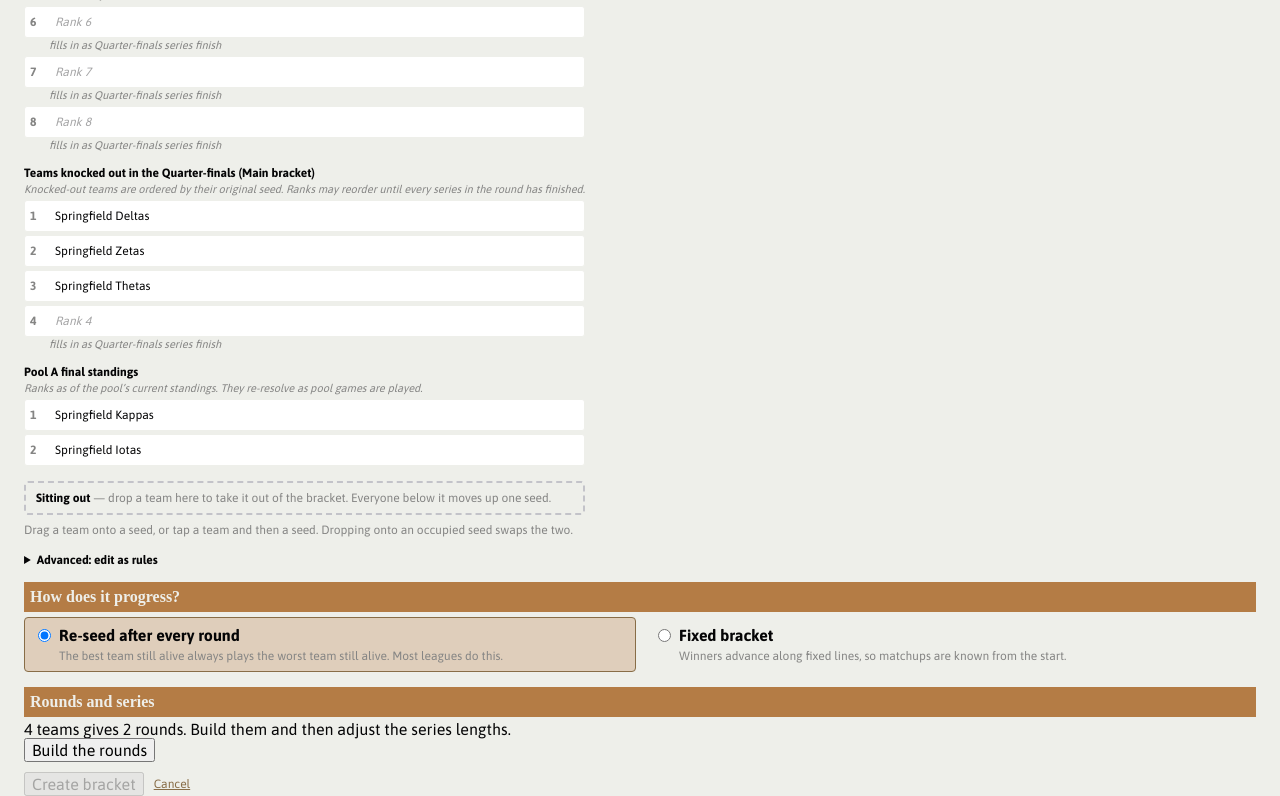
Scenario: TournamentBracketForm (seeding board) › blocks saving while the seeding has a problem, and says why
The width and height of the screenshot is (1280, 796).
(page scrolled)
Click the button "Build the rounds" at (90, 750), box 24,738 -> 155,762
(page scrolled)
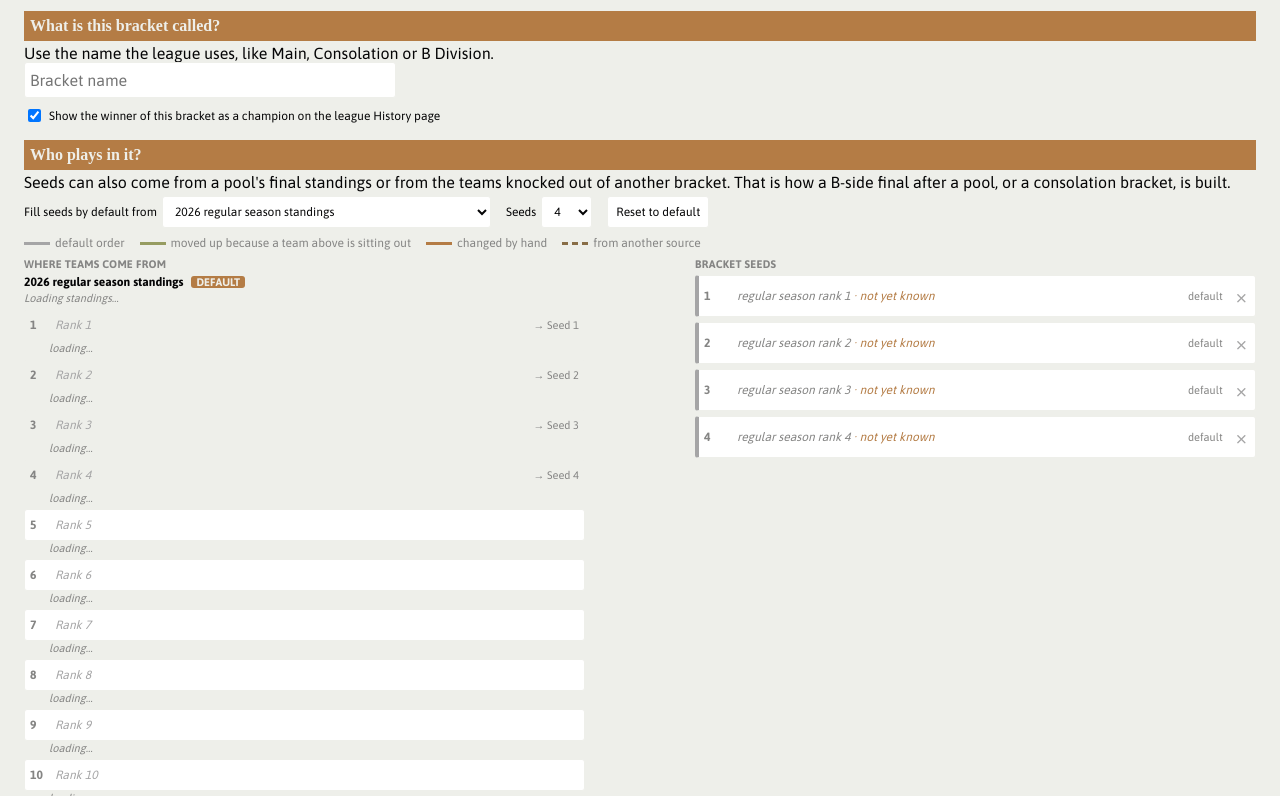
Click the button named "Clear seed 3" at (1241, 390), box 1228,370 -> 1255,410
(page scrolled)
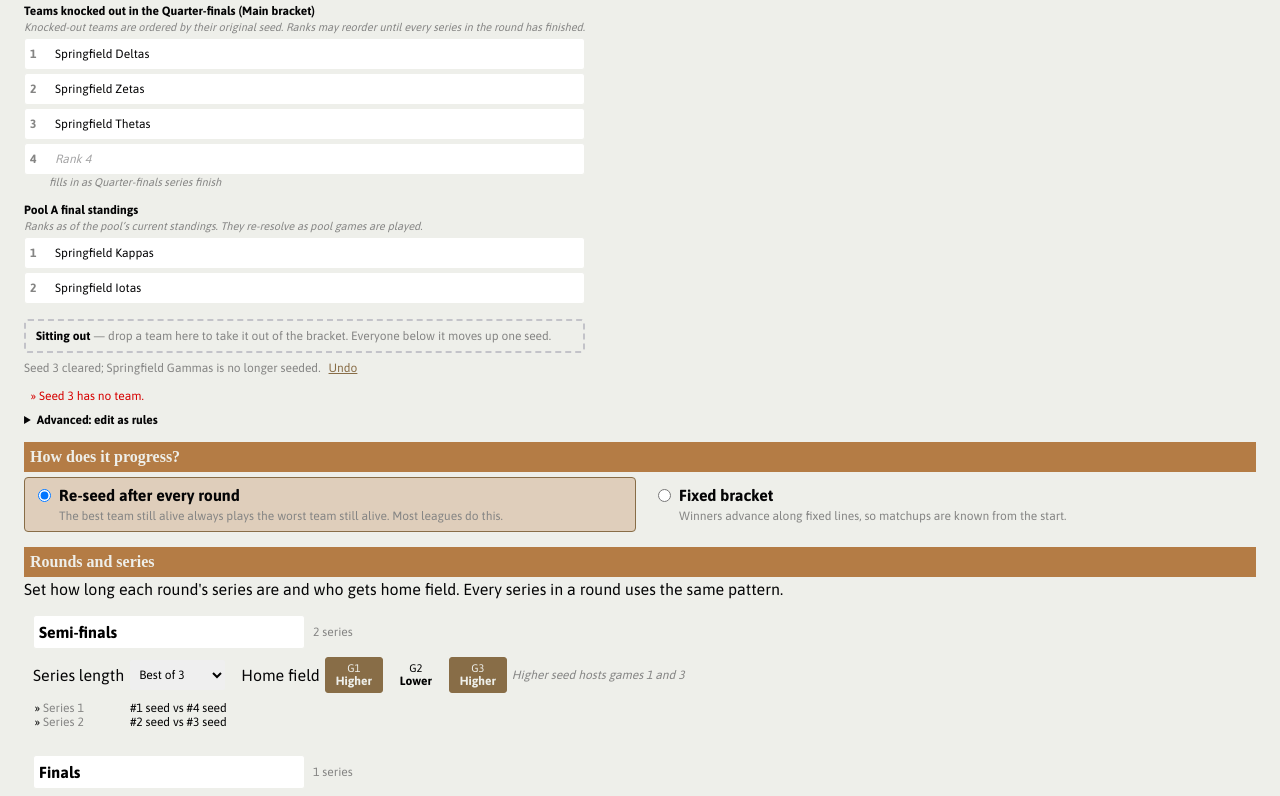
Now the list item "Seed 3 has no team." is shown, box 39,389 -> 144,403
